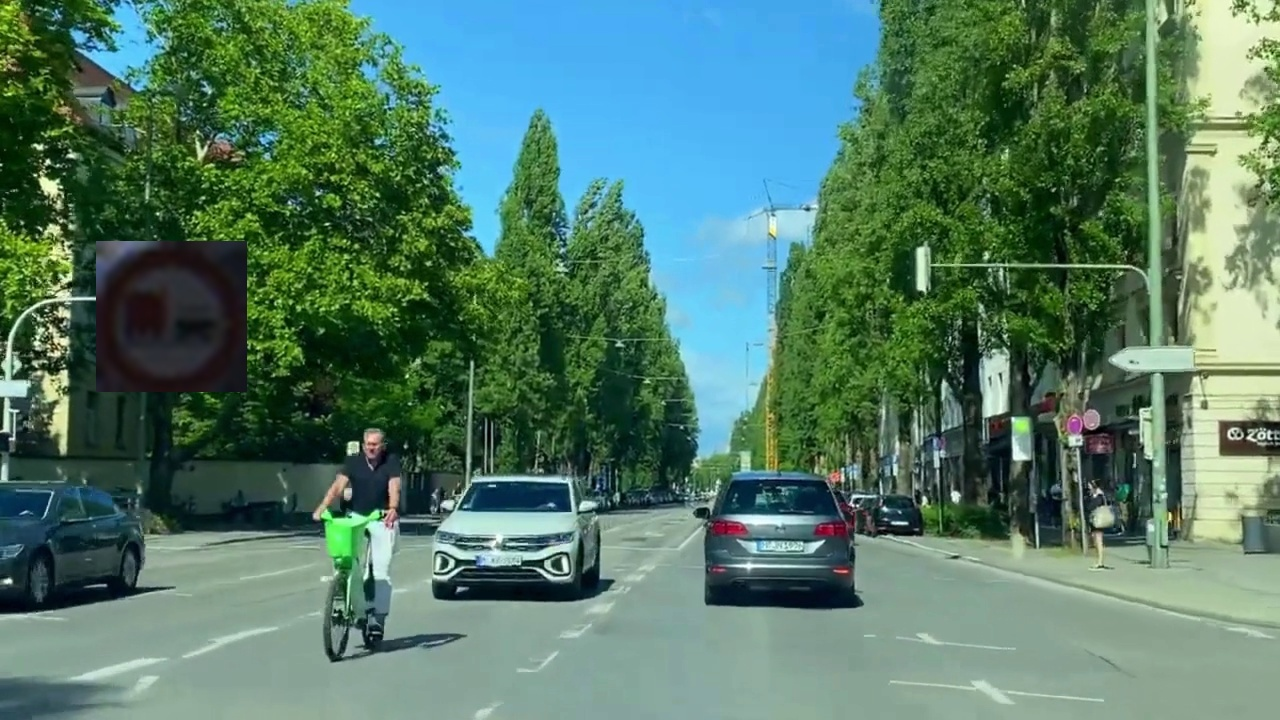No pass >3.5t: (96, 241, 247, 392)
